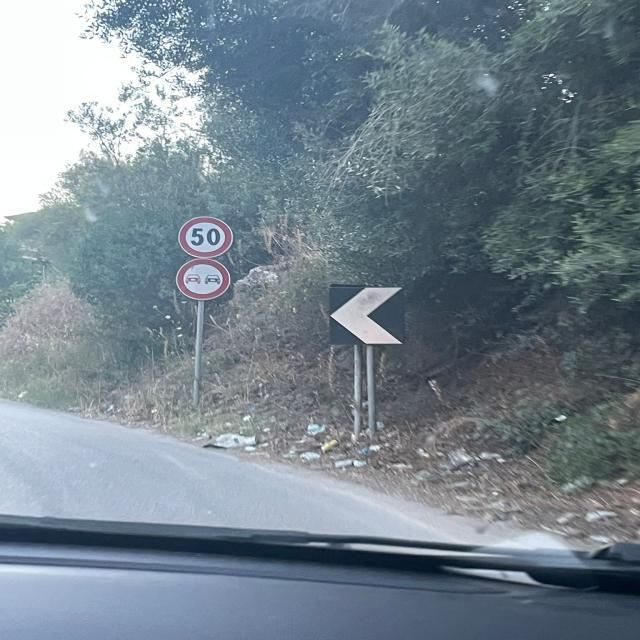forb_overtake: (175, 259, 231, 300)
forb_speed_over_50: (177, 215, 234, 258)
